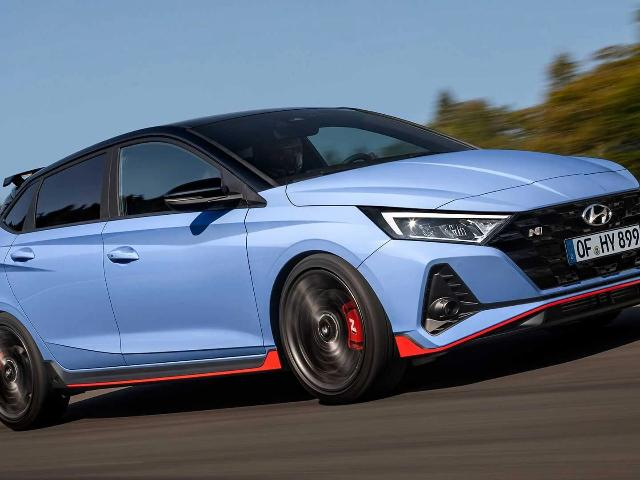hyundai: (0, 106, 640, 431)
